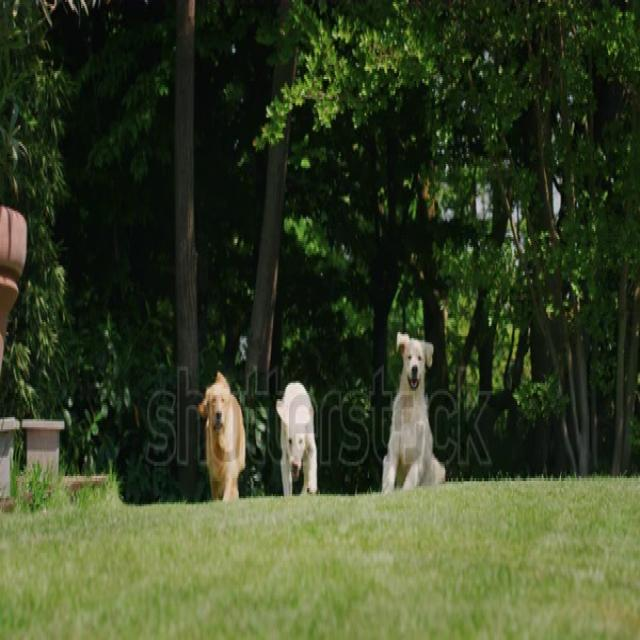normal_animals: (154, 339, 258, 523), (275, 358, 353, 532), (377, 326, 448, 496)
